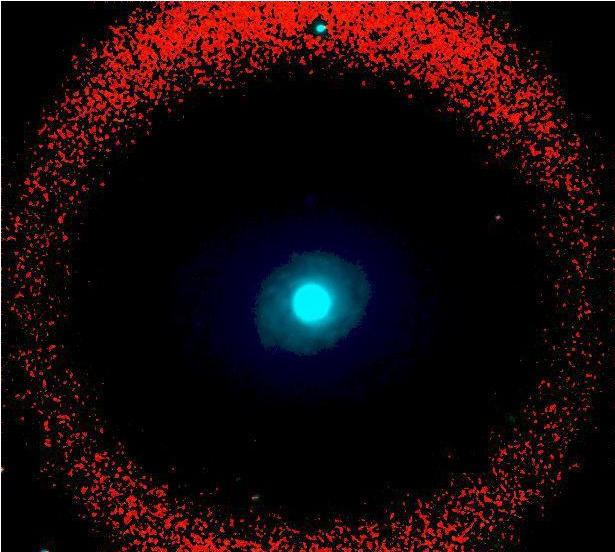star: (237, 427, 267, 457)
